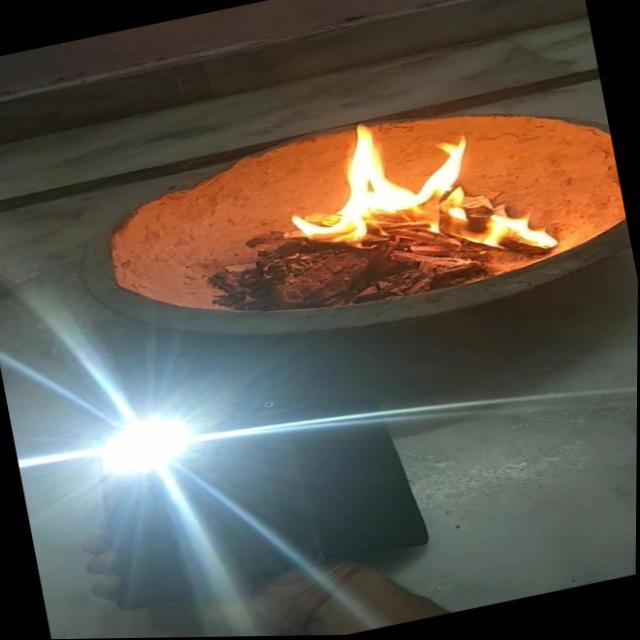fire: (271, 87, 561, 306)
